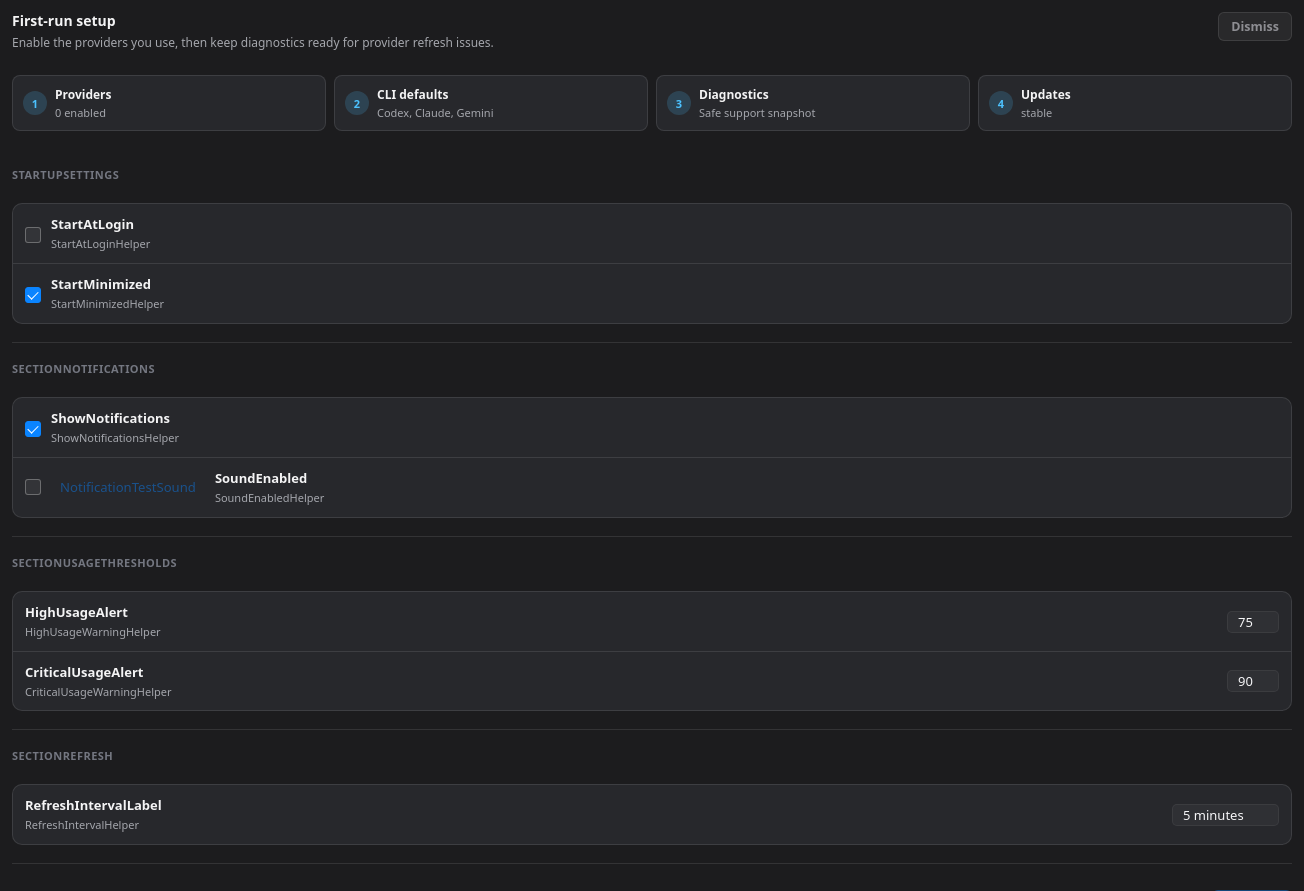
Test: GeneralTab first-run setup › dismisses the setup card
Click the button with aria-label "Dismiss first-run setup".
click(1255, 26)  # box [1218,12,1292,41]
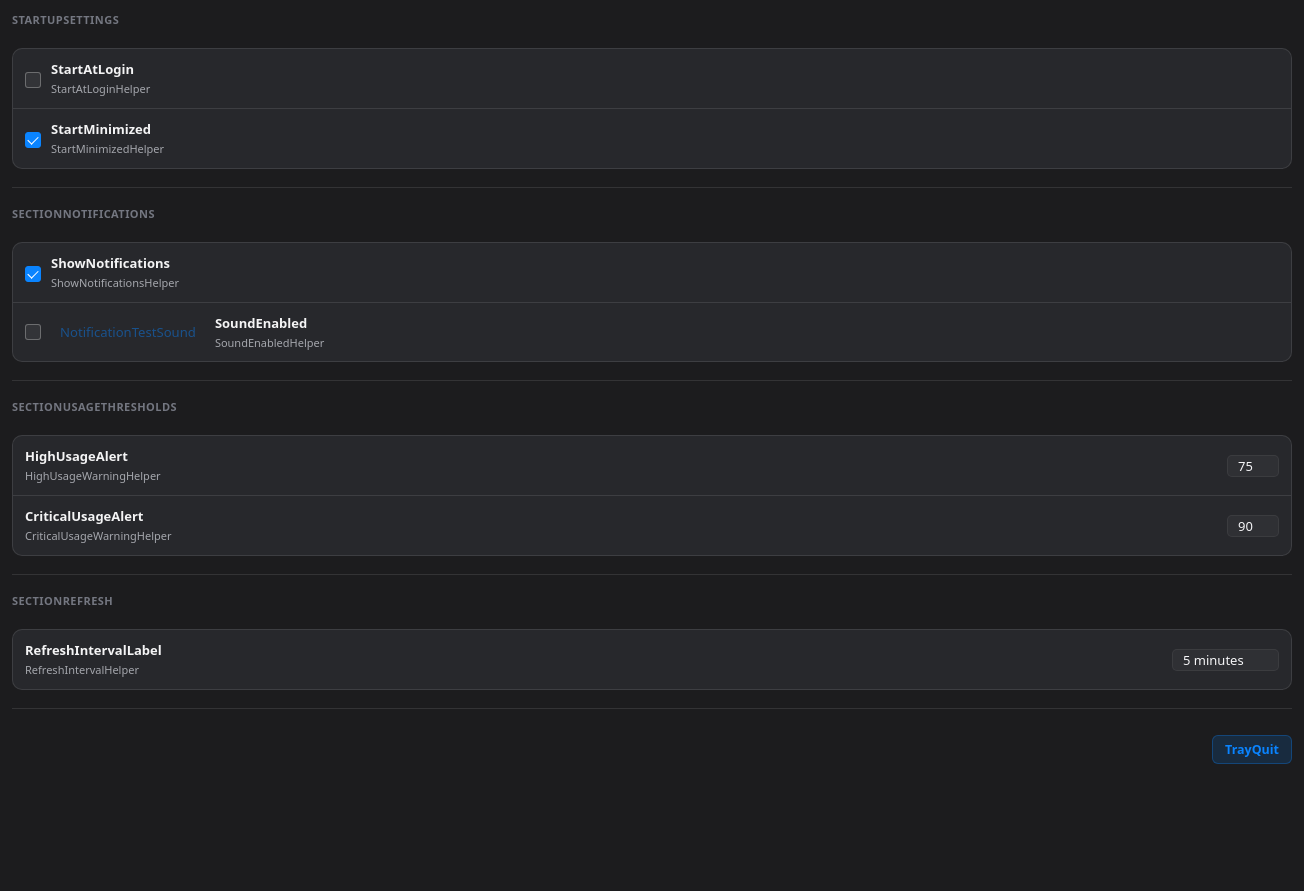
Expected: the heading "First-run setup" is gone
